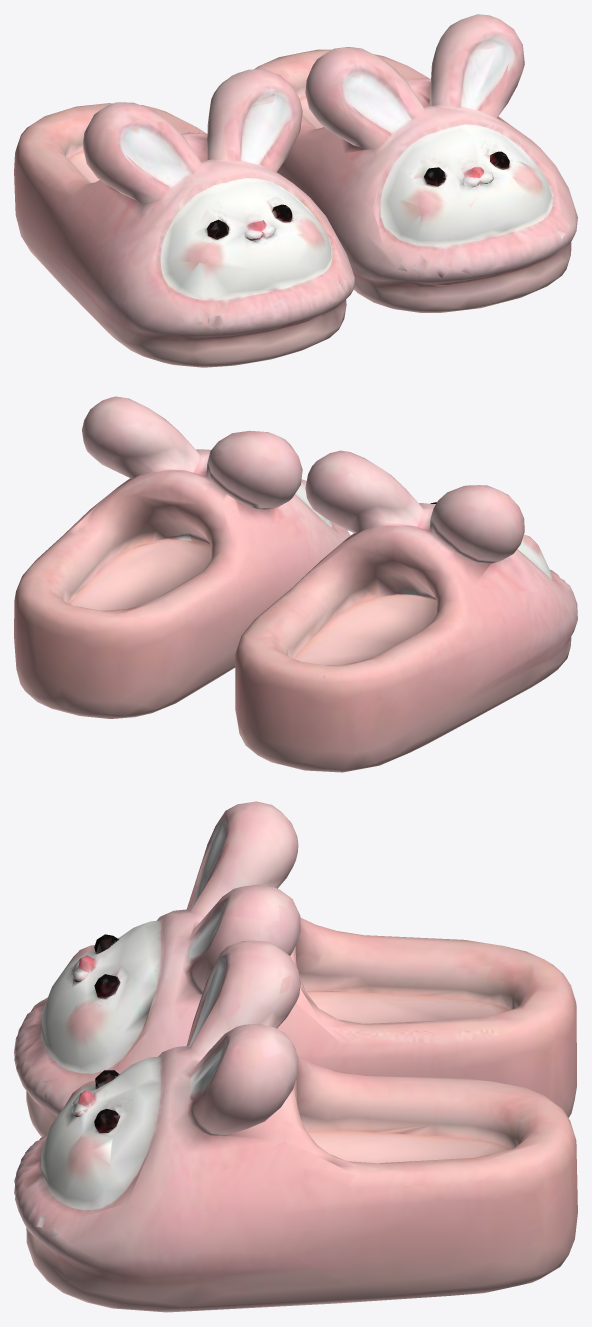
The model's file is slippers.glb.
The picture shows the model from 3 angles, top to bottom: view 1: azimuth 30°, elevation 25°; view 2: azimuth 150°, elevation 25°; view 3: azimuth 270°, elevation 25°; orthographic projection. The views are drawn at different scales.
Visible parts, largest first — view 1: slippers; view 2: slippers; view 3: slippers.
Part boxes in pixels (x1,y1,x2,y2): slippers: (14, 14, 577, 367); slippers: (14, 396, 577, 772); slippers: (14, 801, 577, 1312).
Size of the model in its own units: 2.25 by 1 by 1.91.
1 material, 1 textured.
